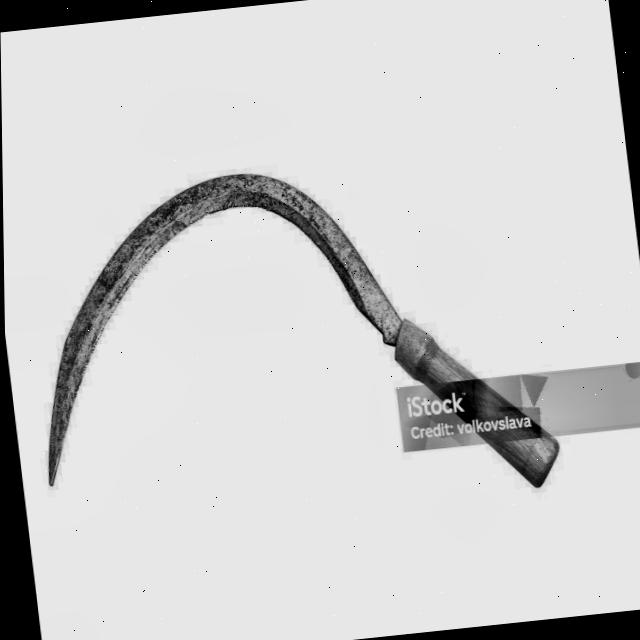celurit: (12, 137, 565, 543)
